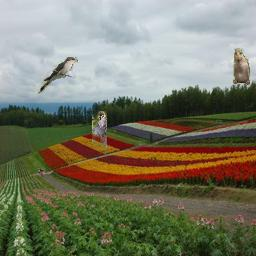Cuckoo: (38, 57, 78, 94)
Sparrow: (233, 48, 250, 88), (92, 111, 107, 151)
